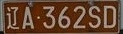A: (22, 7, 34, 29)
